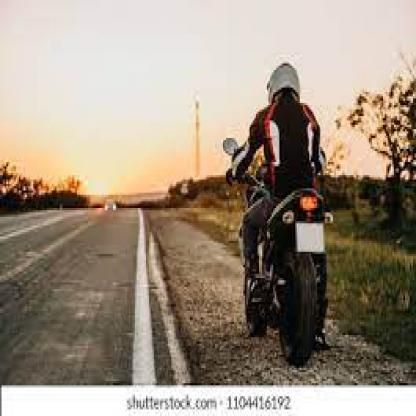bike: (221, 61, 334, 366)
